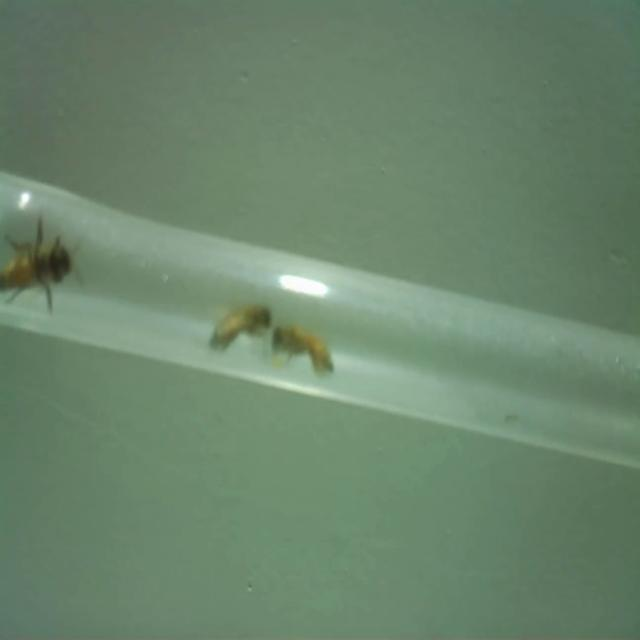Honeybee-Detection: (0, 215, 83, 313), (208, 294, 272, 351), (272, 325, 333, 373)
